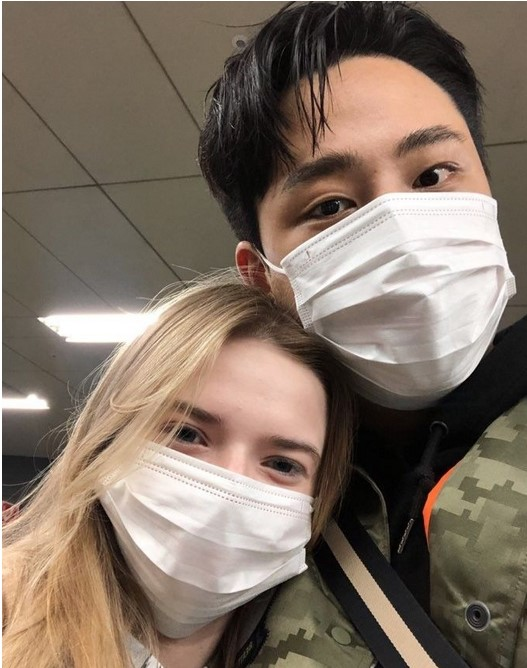face_with_mask: (197, 4, 519, 402), (88, 282, 350, 640)
